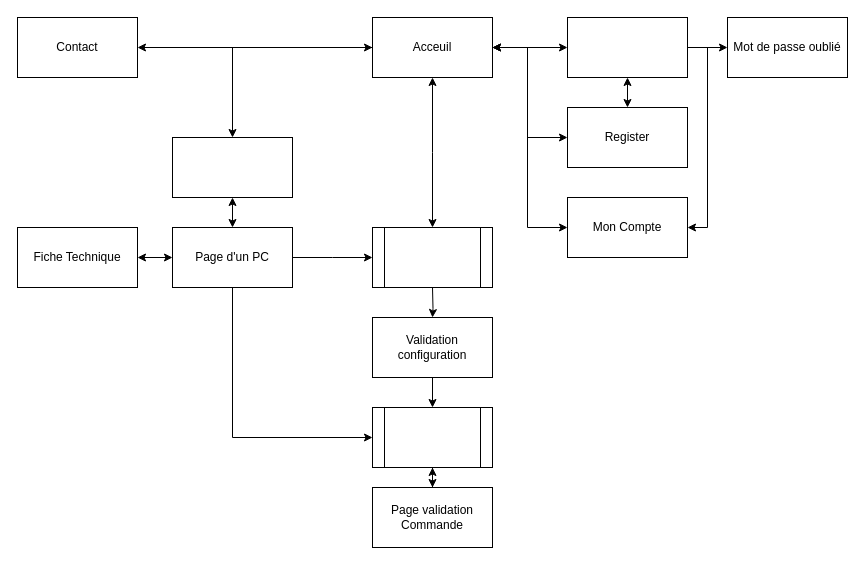
This 865x565 diagram has some shape labels left out. The shapes that lost their labels are listed below. From the top down, each one's centre as x and y in pixels, then its label:
At point (627, 47): "Login".
At point (232, 167): "Listes PC".
At point (432, 257): "Configuration PC".
At point (432, 437): "Commande".
